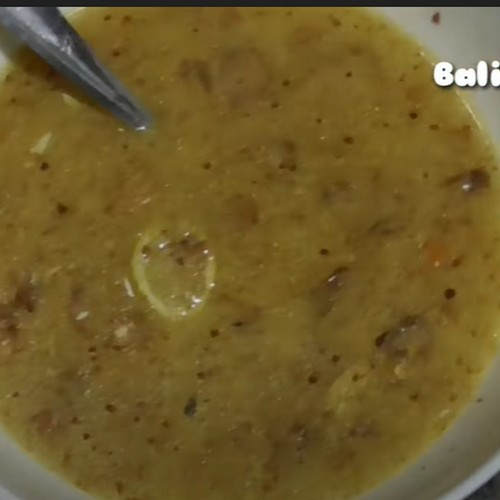komoh: (8, 140, 492, 472)
